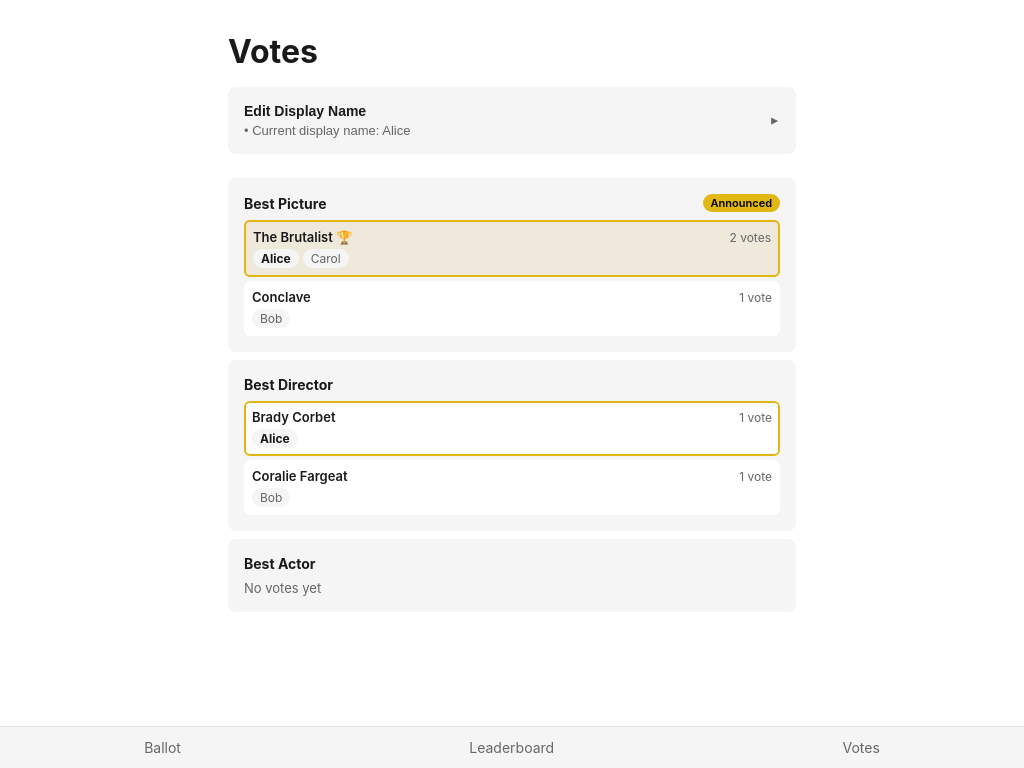
Scenario: Votes page › collapses the form when header is clicked again
# First click to expand
Click the button "Edit Display Name • Current display name: Alice ▼" at (305, 111), box [228,87,796,154]
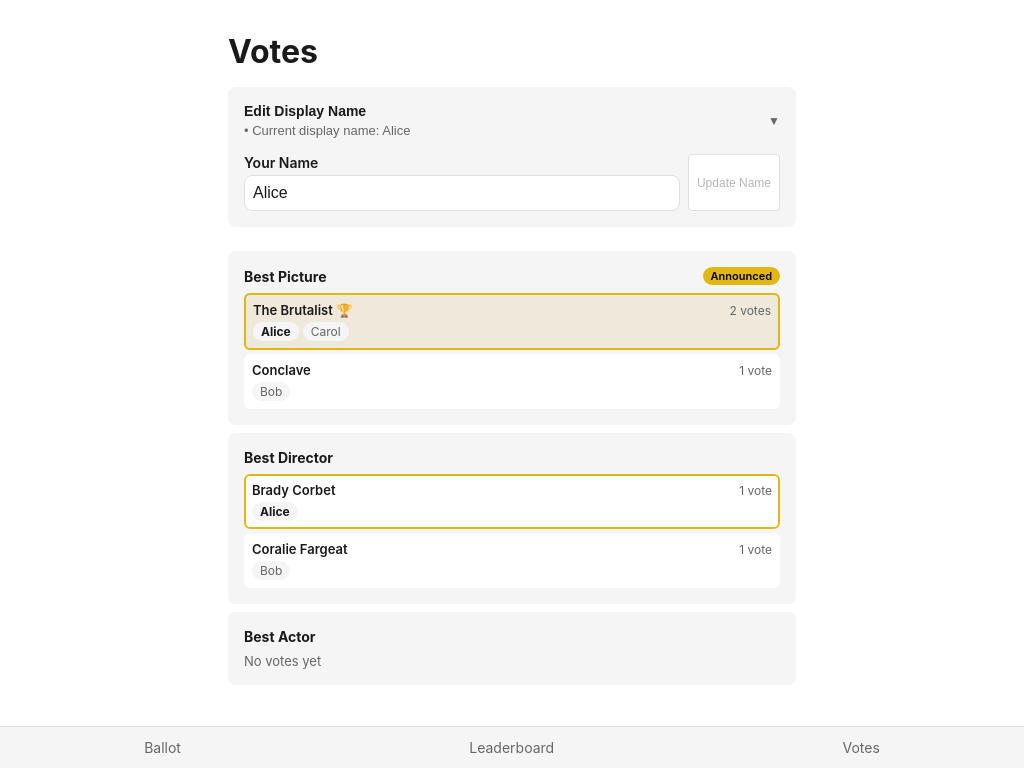
Now the field is shown, box [244,175,680,211]
# Second click to collapse
Click the button "Edit Display Name • Current display name: Alice ▼" at (305, 111), box [228,87,796,154]
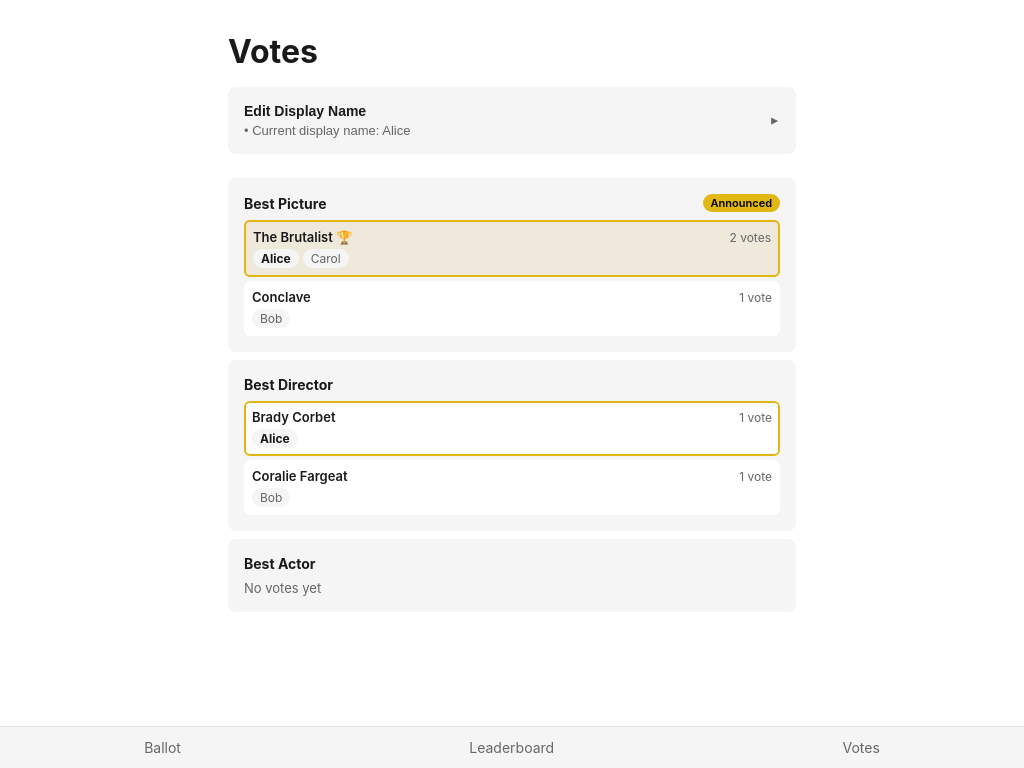
Now the field is gone
